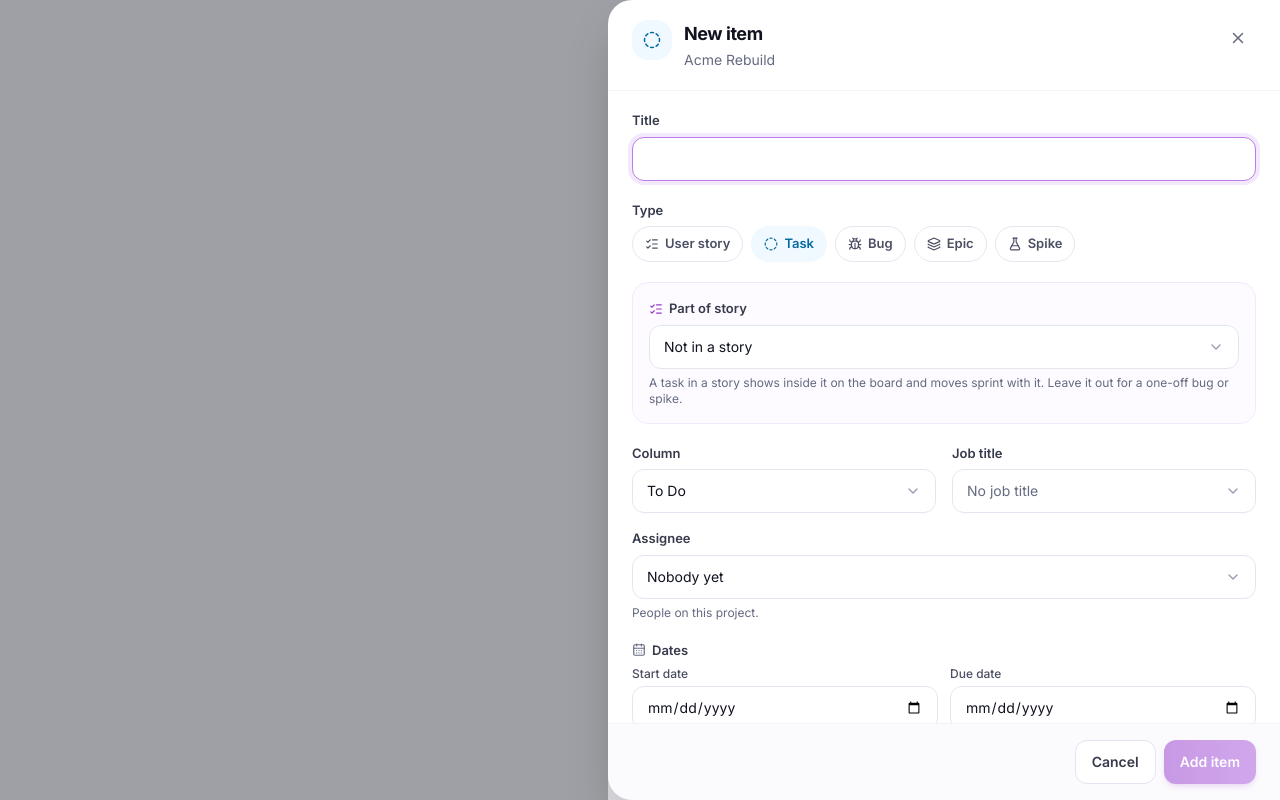
Test: creating › only offers people who are on the project
What coordinates should you click on to do the following:
click the dropdown named "Assignee"
I would click on:
 (685, 576)
Its box is [632,554,1256,598].
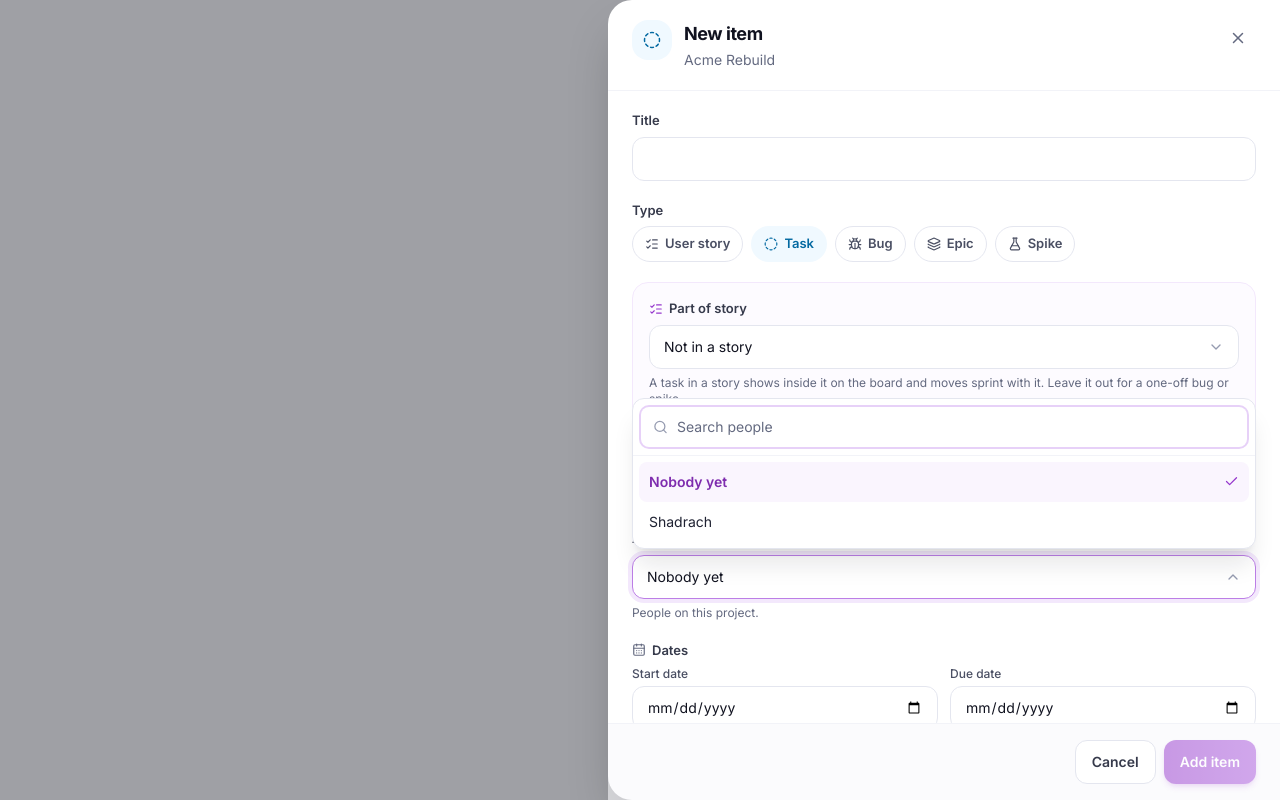
Check: the text "People on this project." is shown, box [632,604,759,620]
Check: the option "Shadrach" is shown, box [649,512,712,530]
